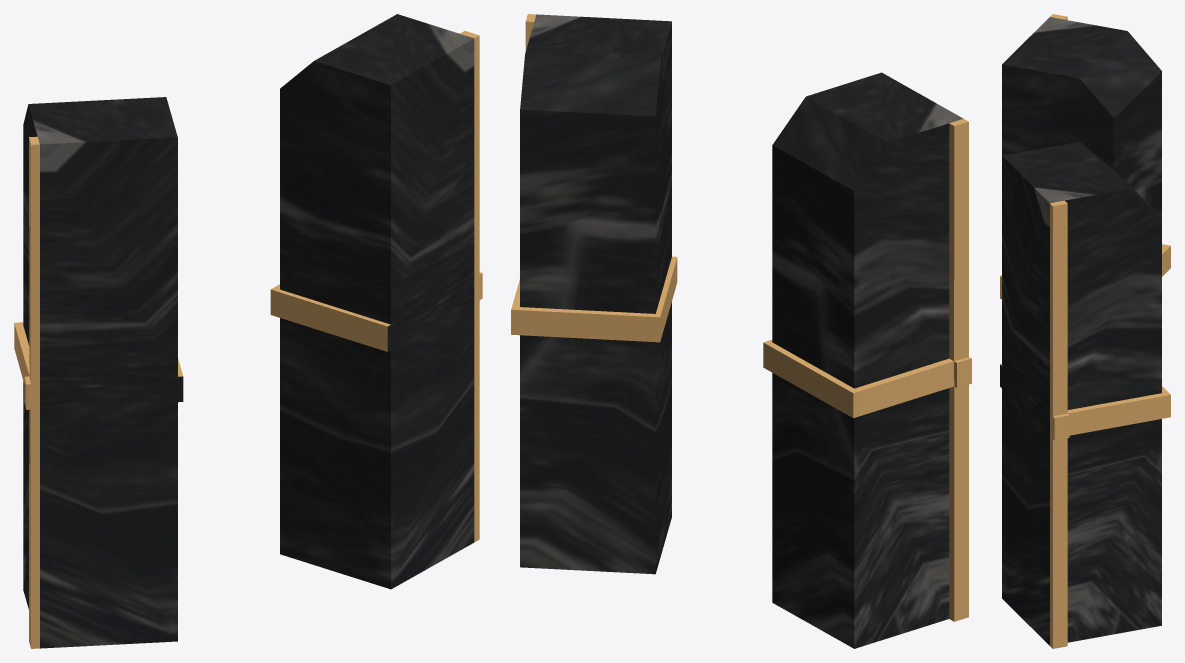
File: OpenDoor.fbx
The picture shows the model from 3 angles, left to right: view 1: azimuth 30°, elevation 25°; view 2: azimuth 150°, elevation 25°; view 3: azimuth 270°, elevation 25°; orthographic projection. The views are drawn at different scales.
Visible parts, largest first — view 1: Plane; view 2: Plane; view 3: Plane.
Boxes of the visible parts, left/top/right/bottom form: Plane: left=14, top=14, right=482, bottom=648; Plane: left=511, top=14, right=971, bottom=648; Plane: left=1000, top=14, right=1170, bottom=648.
Bounding box in the file's own units: 3.8 × 4 × 1.4.
2 materials, 2 textured.
